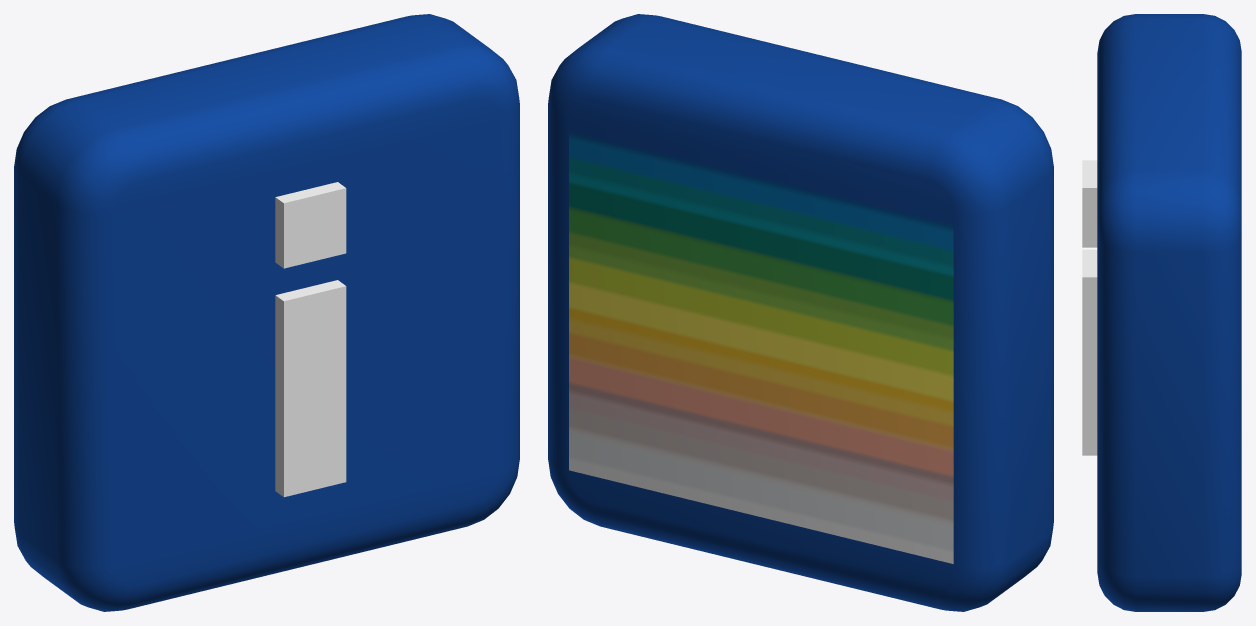
The model's file is information.gltf.
The picture shows the model from 3 angles, left to right: view 1: azimuth 30°, elevation 25°; view 2: azimuth 150°, elevation 25°; view 3: azimuth 270°, elevation 25°; orthographic projection. The views are drawn at different scales.
Visible parts, largest first — view 1: Cube.6623; view 2: Cube.6623; view 3: Cube.6623.
Part boxes in pixels (bbox=[...]): Cube.6623: bbox=[14, 14, 519, 611]; Cube.6623: bbox=[548, 14, 1053, 611]; Cube.6623: bbox=[1082, 14, 1241, 611].
Bounding box in the file's own units: 2.2 × 2.2 × 0.73.
1 material, 1 textured.
